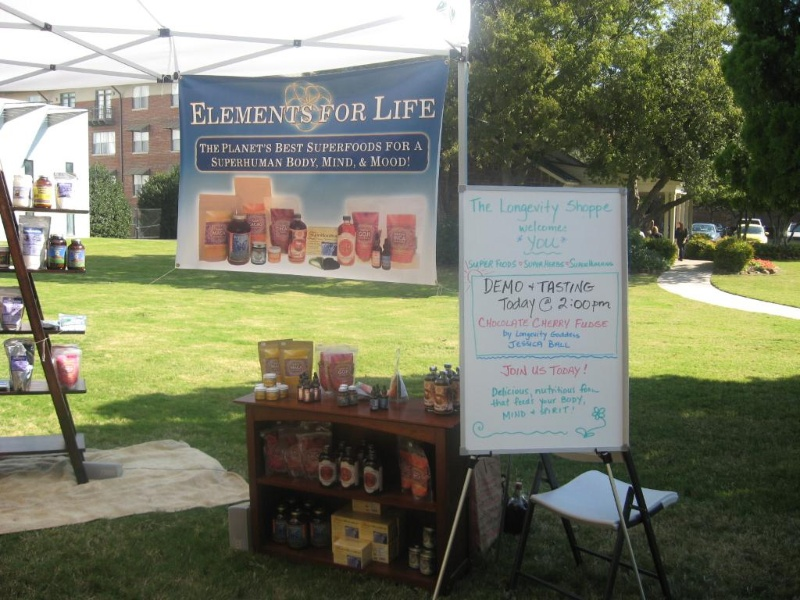chair: (517, 444, 678, 600)
